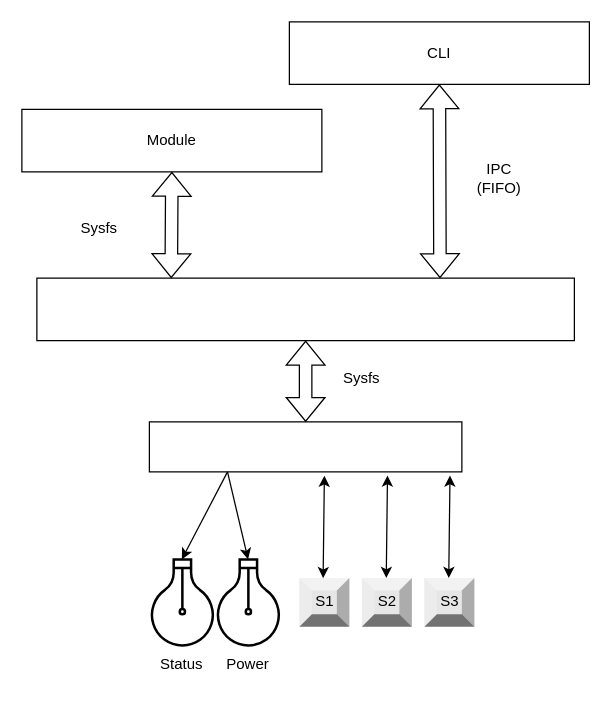
The diagram is 611 pixels wide and 705 high, and some of its shapes have lost their labels. Each missing label, with the centre of its shape:
Daemon: (305,309)
GPIO: (305,446)
